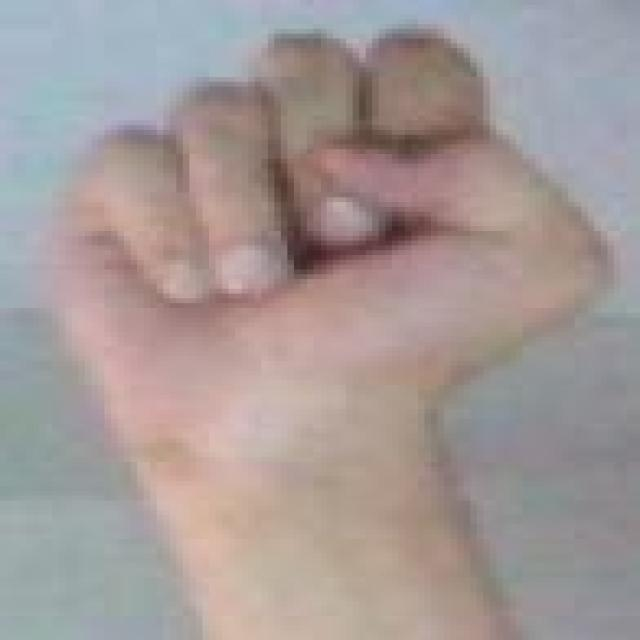S: (11, 20, 640, 397)
